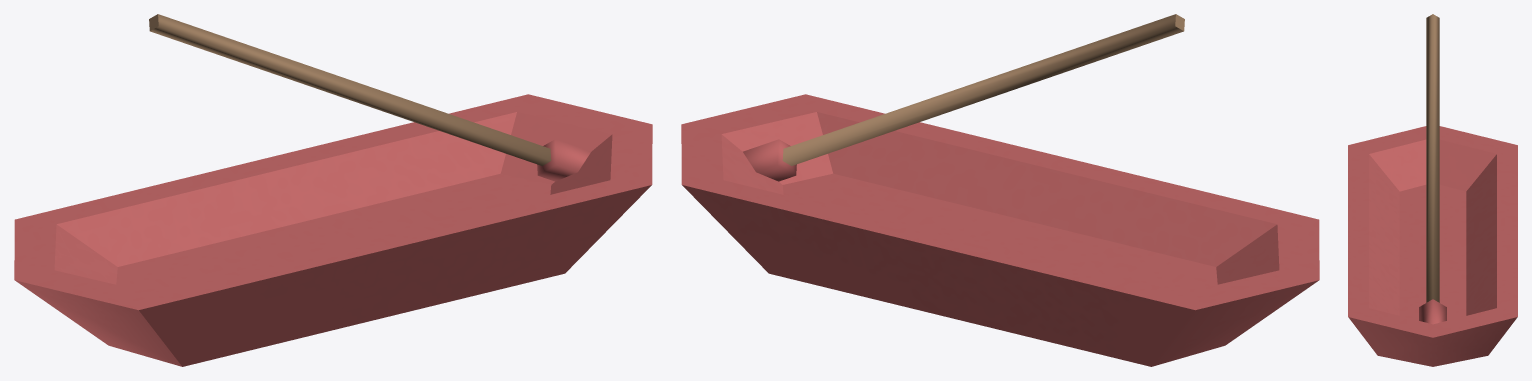
Rendered from gg_Incense-Holder.FBX.
The picture shows the model from 3 angles, left to right: view 1: azimuth 30°, elevation 25°; view 2: azimuth 150°, elevation 25°; view 3: azimuth 270°, elevation 25°; orthographic projection. The views are drawn at different scales.
Visible parts, largest first — view 1: gg_Incense-Holder; view 2: gg_Incense-Holder; view 3: gg_Incense-Holder.
Boxes of the visible parts, x1,y1,x2,y2 form: gg_Incense-Holder: (14,14,652,366); gg_Incense-Holder: (681,14,1319,366); gg_Incense-Holder: (1348,14,1517,366).
Size of the model in its own units: 25.07 by 11.99 by 8.42.
1 material, 1 textured.
